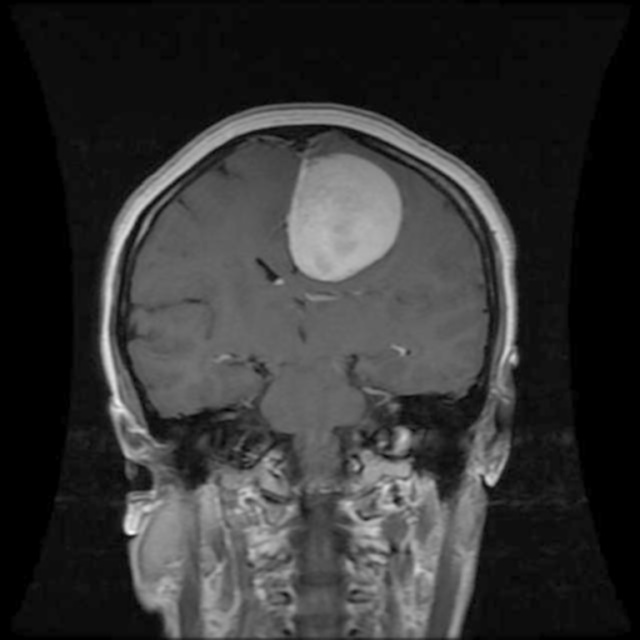meningioma tumor: (284, 144, 412, 298)
